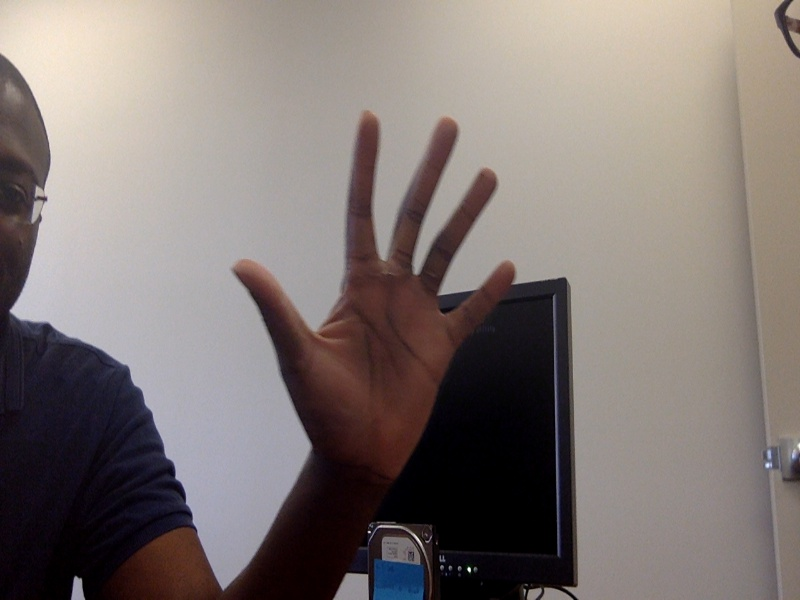5-hand: (229, 109, 518, 480)
